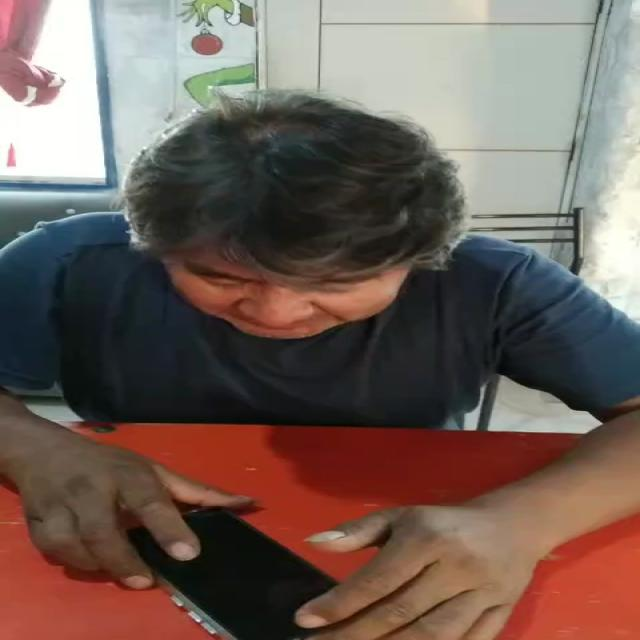9_cabeza_baja: (115, 93, 468, 340)
